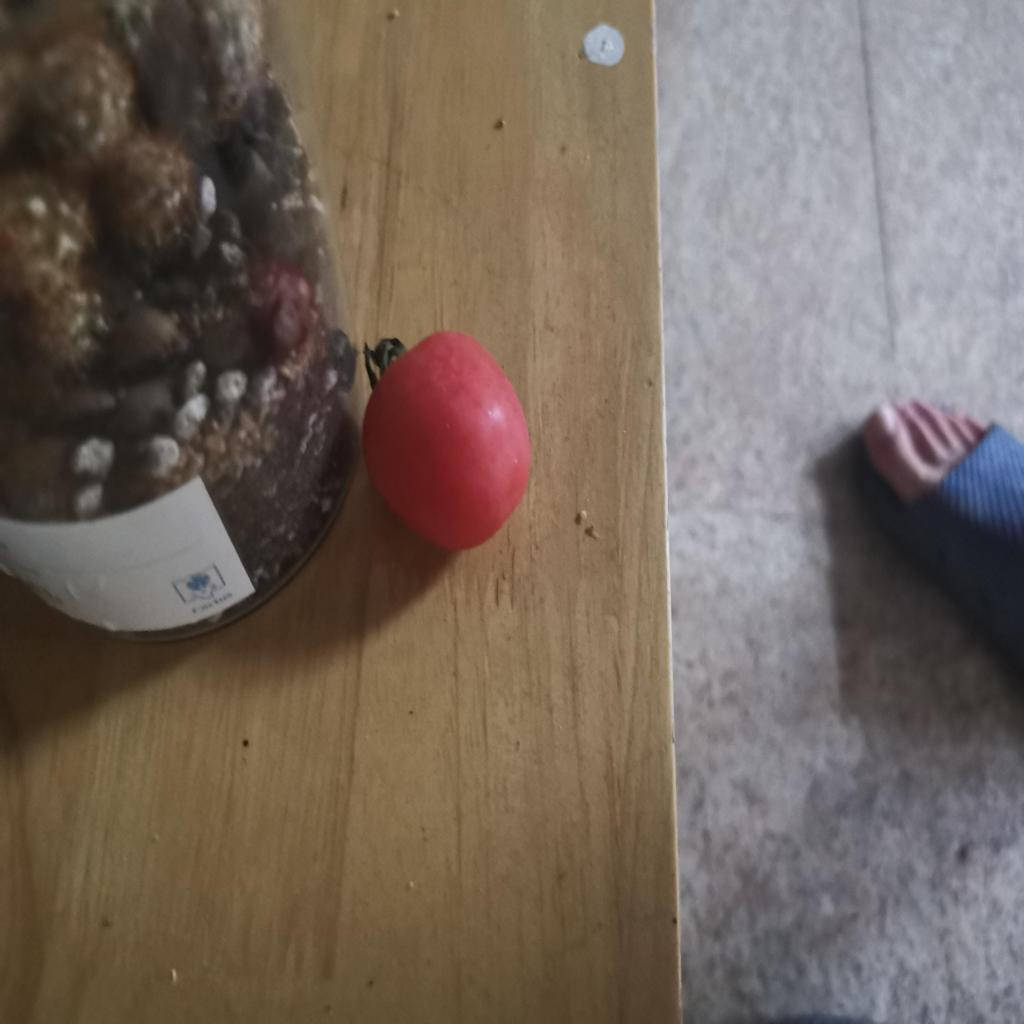tomato: (356, 333, 537, 558)
